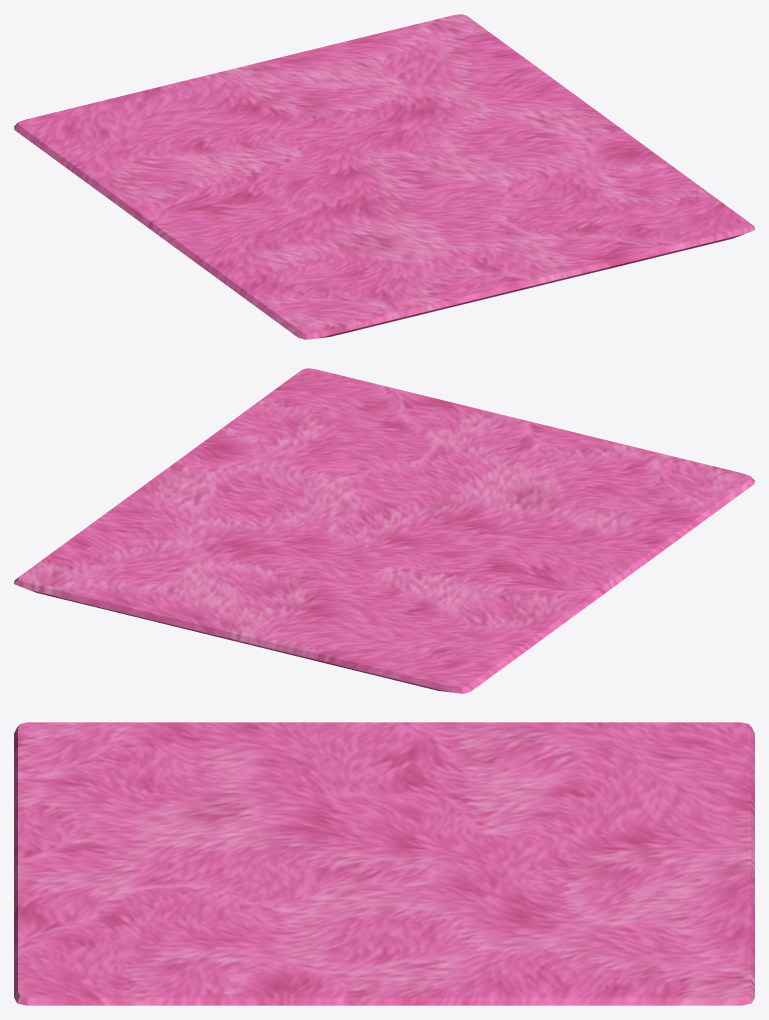
File: Throw_Rug_06.FBX
3 renders of one model, top to bottom at view 1: azimuth 30°, elevation 25°; view 2: azimuth 150°, elevation 25°; view 3: azimuth 270°, elevation 25°, orthographic. The views are drawn at different scales.
Parts seen in each view (by area): view 1: Shag_Carpet; view 2: Shag_Carpet; view 3: Shag_Carpet.
Boxes of the visible parts, x1,y1,x2,y2 form: Shag_Carpet: [14, 14, 754, 339]; Shag_Carpet: [14, 368, 754, 693]; Shag_Carpet: [14, 722, 754, 1005].
Bounding box in the file's own units: 244 × 3.17 × 273.
